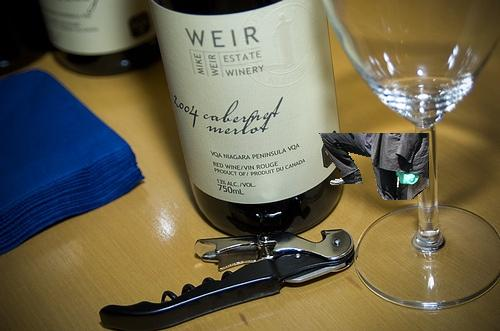tampered: (320, 134, 429, 200)
